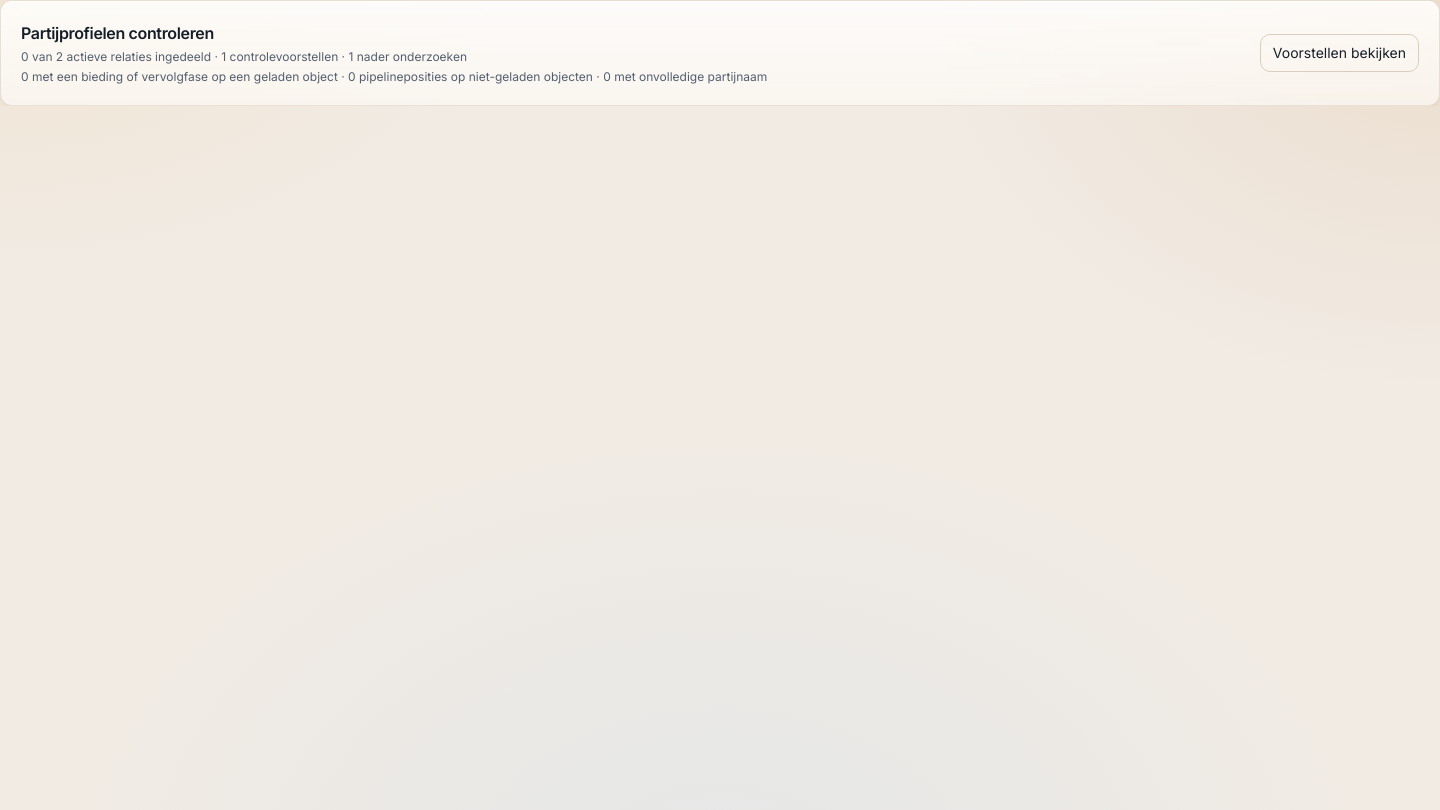
it: A15 CRM read-only review UI › toont voorgestelde classificaties en onzekerheid, met link naar bronrelatie
Expected: the text "0 van 2 actieve relaties ingedeeld" is shown, [21,49,467,64]
Click the button "Voorstellen bekijken" at (1339, 53), box [1260,34,1419,72]
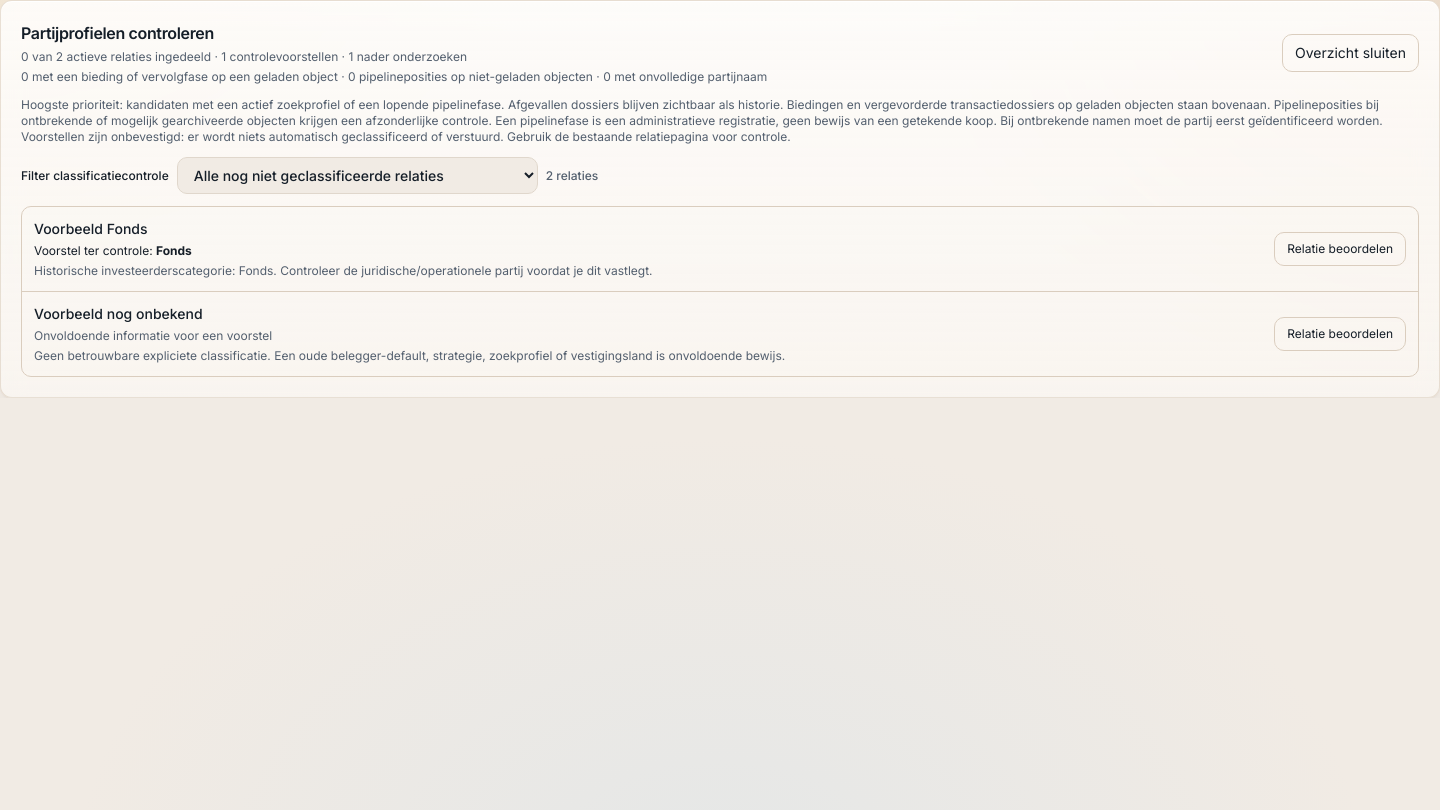
Expected: the text "Voorbeeld Fonds" is shown, [34,220,148,237]
Expected: the text "Historische investeerderscategorie: Fonds" is shown, [34,263,653,278]
Expected: the text "Voorbeeld nog onbekend" is shown, [34,305,203,322]
